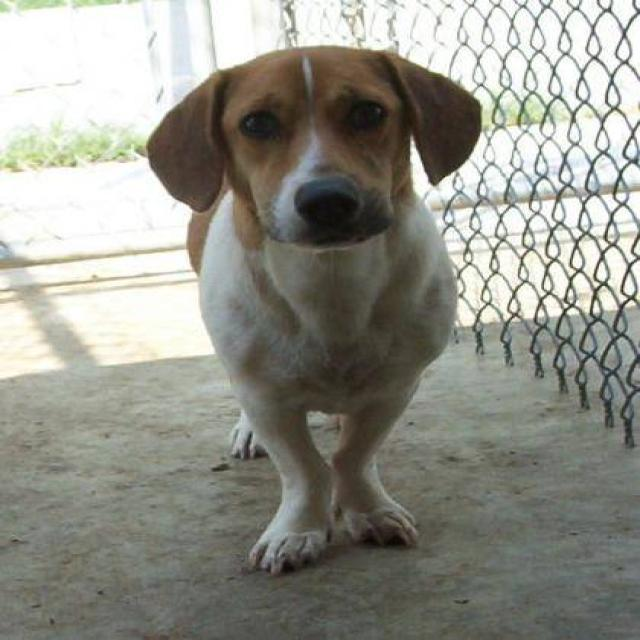dogs: (122, 24, 501, 566)
